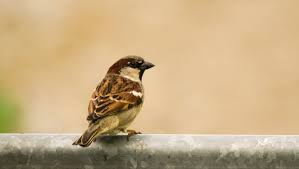hsparrow: (70, 55, 156, 149)
